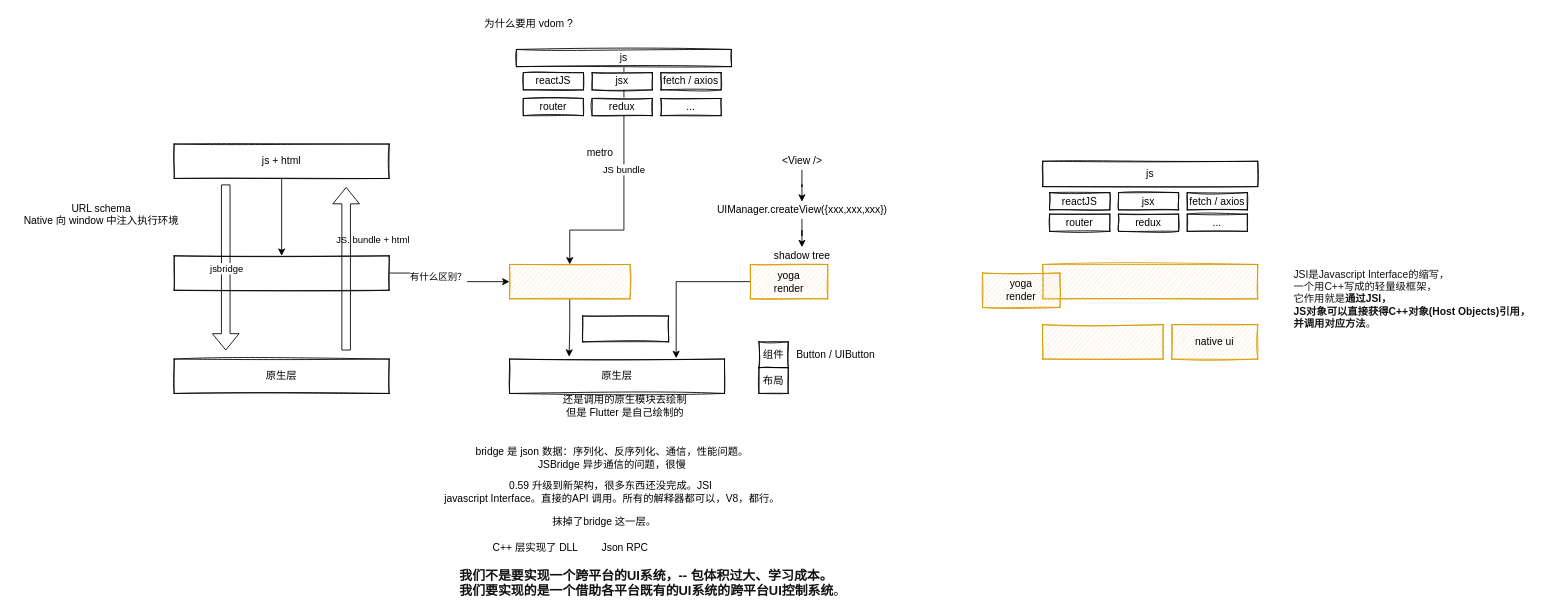
Image size: 1556x614. Some labels were removed from this diagram. The centre of each missing label's shape, as x and y in pixels:
"bridge (Android / ios)" goes at (625,328).
"JS core" goes at (569,281).
"JSI" goes at (1150,281).
"native module" goes at (1102,341).
"native webview" goes at (281,272).
